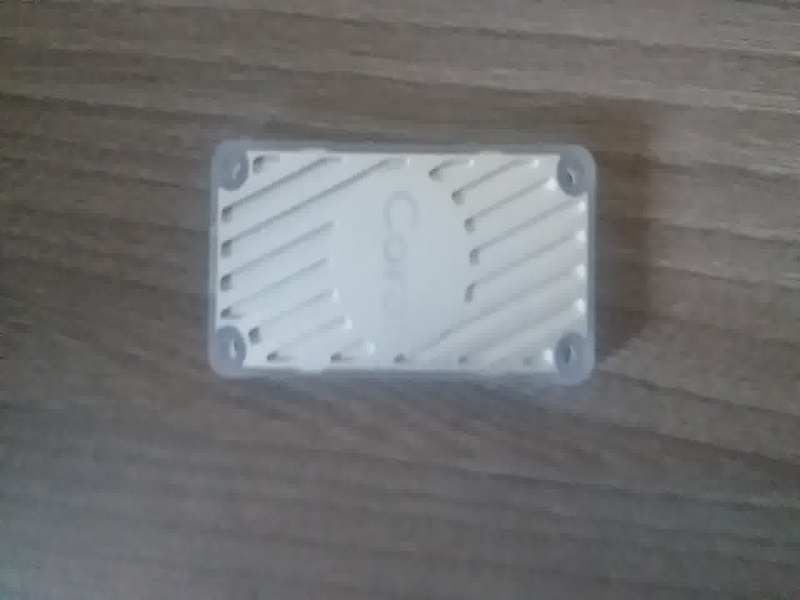coral: (202, 129, 623, 408)
